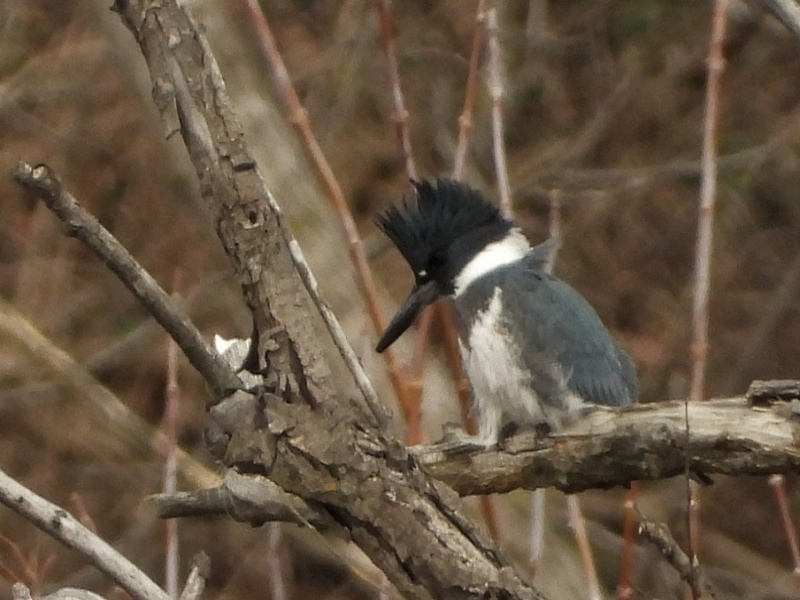kingfisher: (360, 177, 642, 456)
